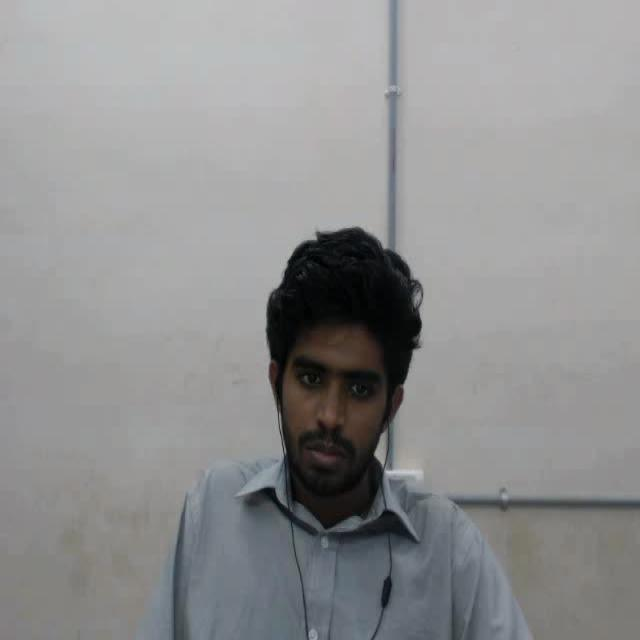Engaged: (251, 204, 428, 514)
